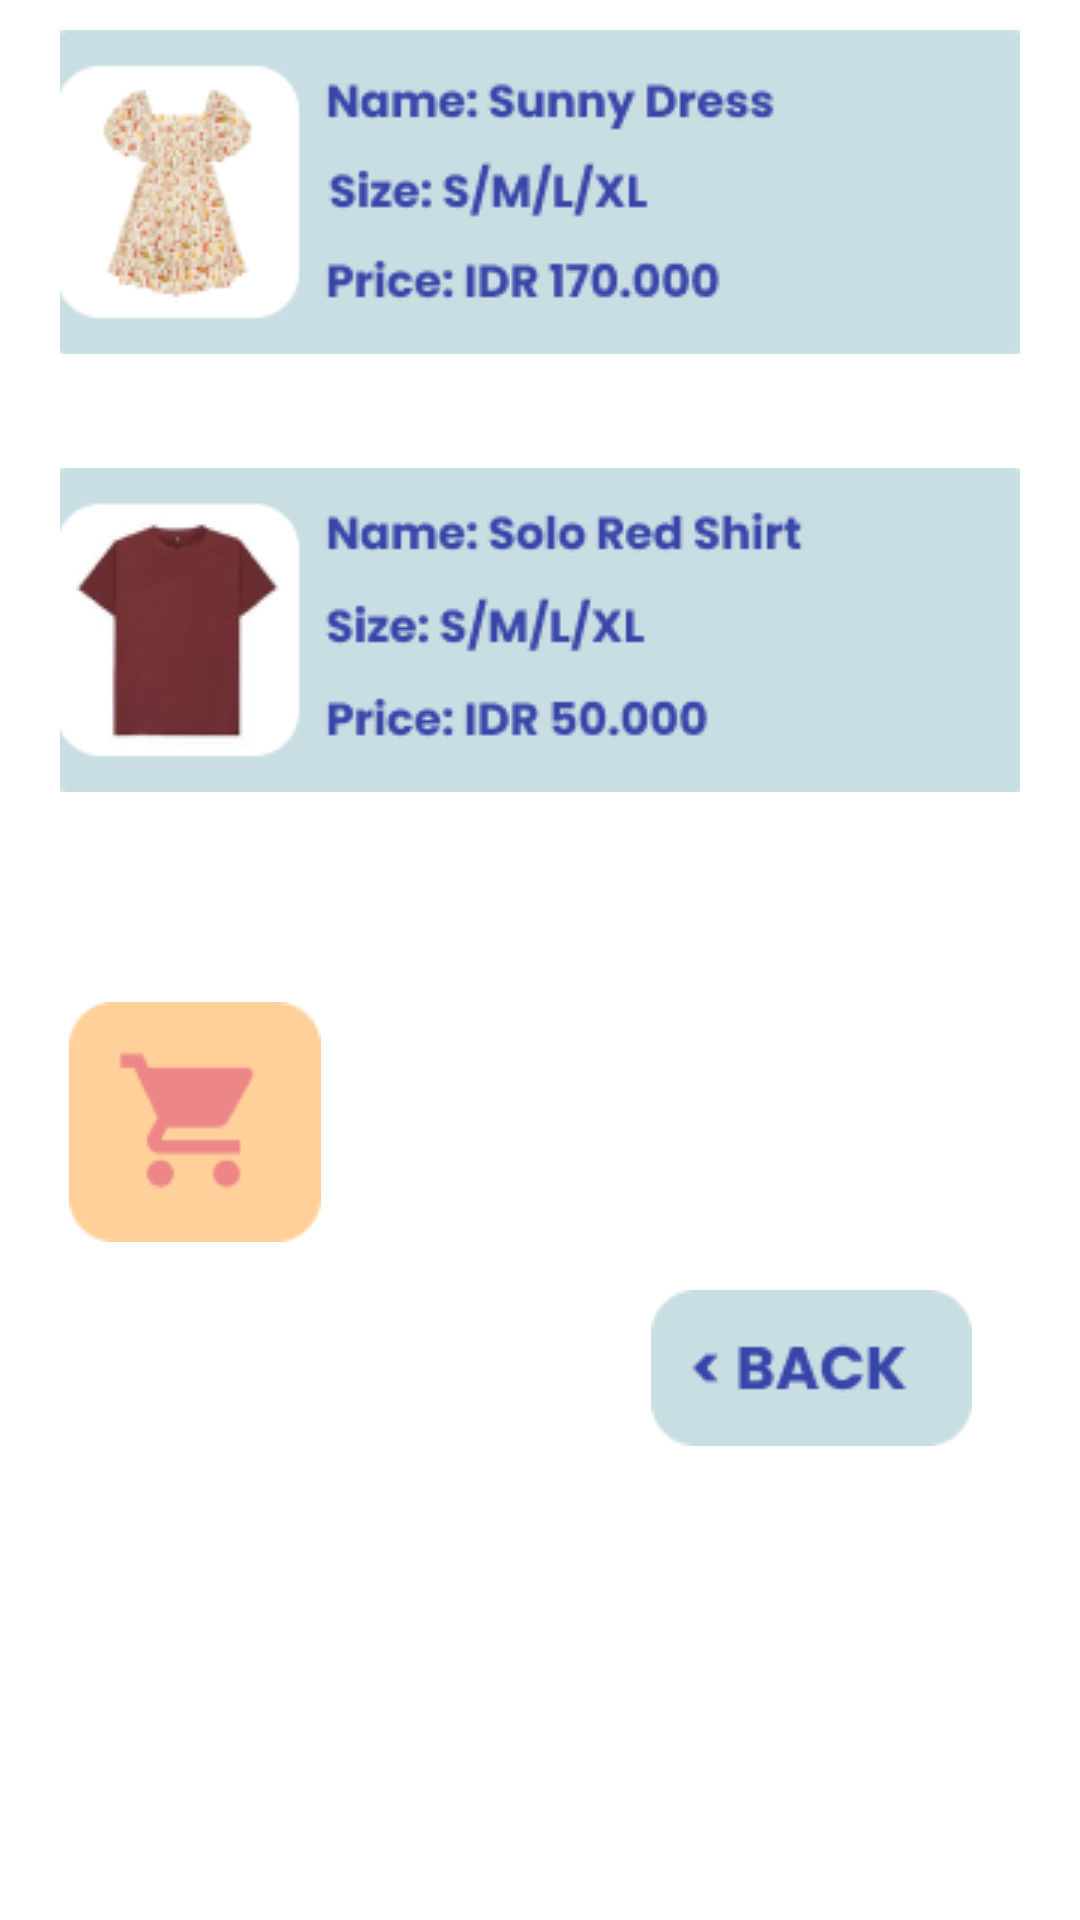

Where to tap for icons on this 1080px×1920px app screen, as point (x, y):
cart: point (195, 1122)
